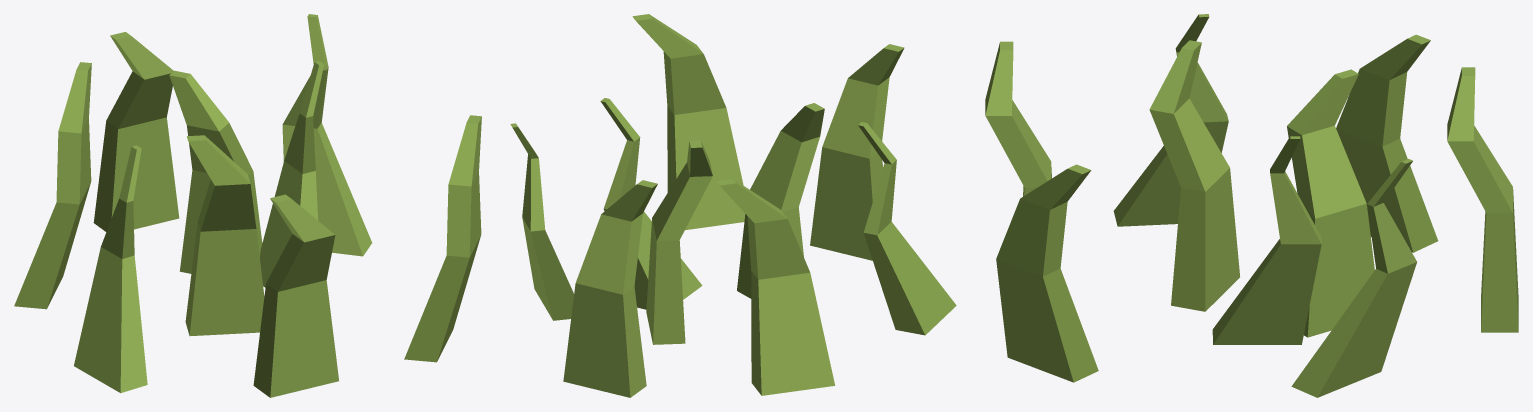
File: grassPatch.fbx
The picture shows the model from 3 angles, left to right: view 1: azimuth 30°, elevation 25°; view 2: azimuth 150°, elevation 25°; view 3: azimuth 270°, elevation 25°; orthographic projection. The views are drawn at different scales.
Visible parts, largest first — view 1: pPlane6, pPlane7, pPlane1, pPlane3, pPlane2, pPlane4, pPlane5, pPlane9, pPlane8; view 2: pPlane2, pPlane1, pPlane6, pPlane4, pPlane3, pPlane9, pPlane7, pPlane5, pPlane8; view 3: pPlane4, pPlane7, pPlane9, pPlane2, pPlane5, pPlane8, pPlane1, pPlane3, pPlane6.
Part boxes in pixels (x1,y1,x2,y2): pPlane6: (253, 194, 338, 397); pPlane7: (185, 135, 264, 336); pPlane1: (93, 32, 179, 231); pPlane3: (74, 145, 147, 393); pPlane2: (14, 62, 91, 309); pPlane4: (404, 115, 481, 362); pPlane5: (282, 14, 372, 256); pPlane9: (169, 70, 262, 273); pPlane8: (260, 60, 324, 287); pPlane2: (716, 178, 835, 395); pPlane1: (563, 180, 657, 397); pPlane6: (810, 44, 904, 260); pPlane4: (632, 14, 745, 230); pPlane3: (858, 122, 956, 335); pPlane9: (646, 140, 712, 344); pPlane7: (737, 103, 824, 298); pPlane5: (510, 123, 573, 320); pPlane8: (600, 98, 702, 309); pPlane4: (996, 164, 1098, 382); pPlane7: (1149, 40, 1239, 311); pPlane9: (1287, 69, 1374, 337); pPlane2: (1336, 34, 1438, 252); pPlane5: (1291, 159, 1416, 397); pPlane8: (1212, 136, 1321, 344); pPlane1: (1447, 67, 1518, 332); pPlane3: (1113, 14, 1228, 226); pPlane6: (985, 41, 1051, 196).
Bounding box in the file's own units: 28.5 × 15.54 × 33.2.
